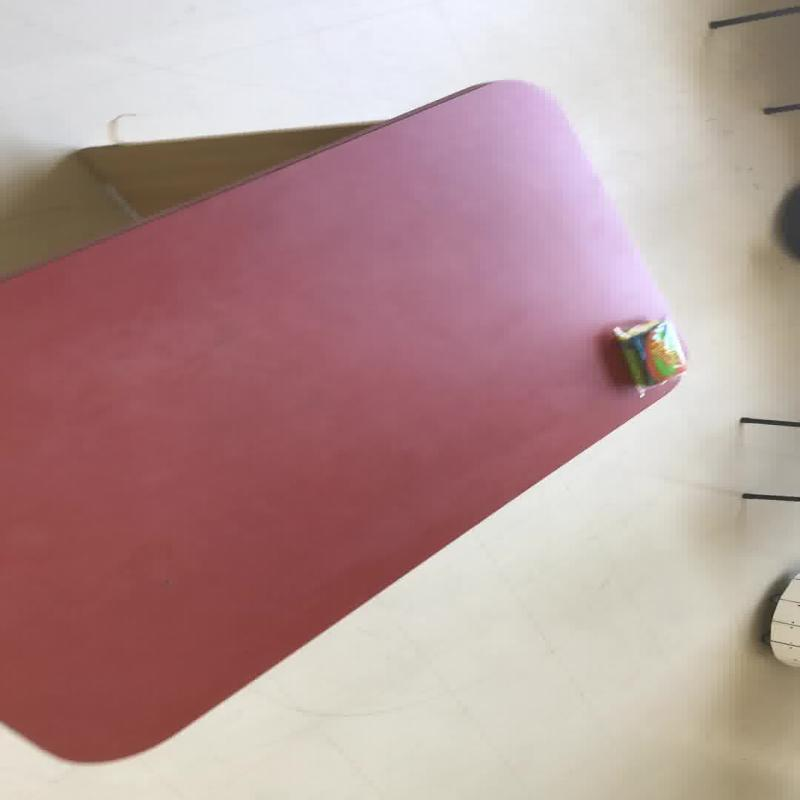sponge: (0, 77, 688, 764), (610, 316, 686, 396)
